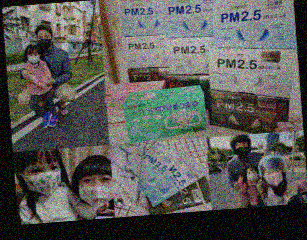with_mask: (22, 161, 62, 195), (76, 173, 113, 207), (262, 168, 284, 187), (36, 32, 52, 49), (233, 141, 250, 156), (26, 51, 40, 64), (245, 168, 257, 182)
